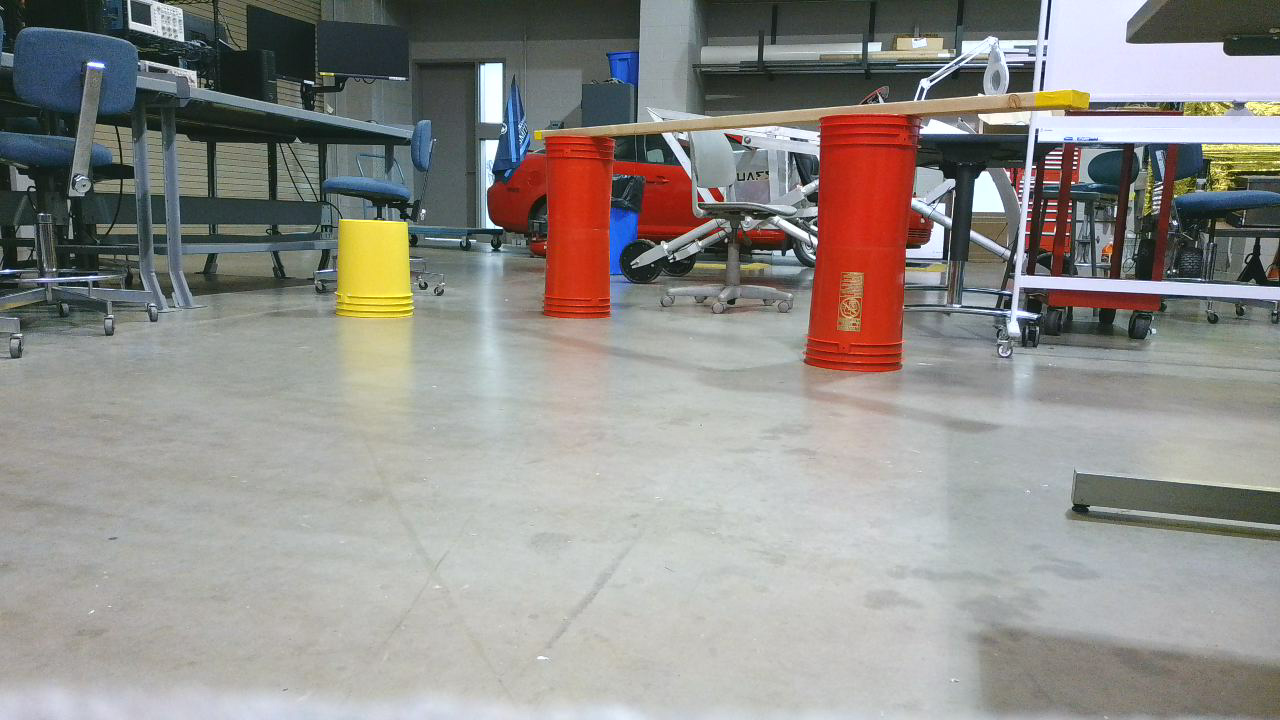red_bucket_arch: (552, 119, 924, 377)
yellow_bucket: (341, 225, 415, 326)
